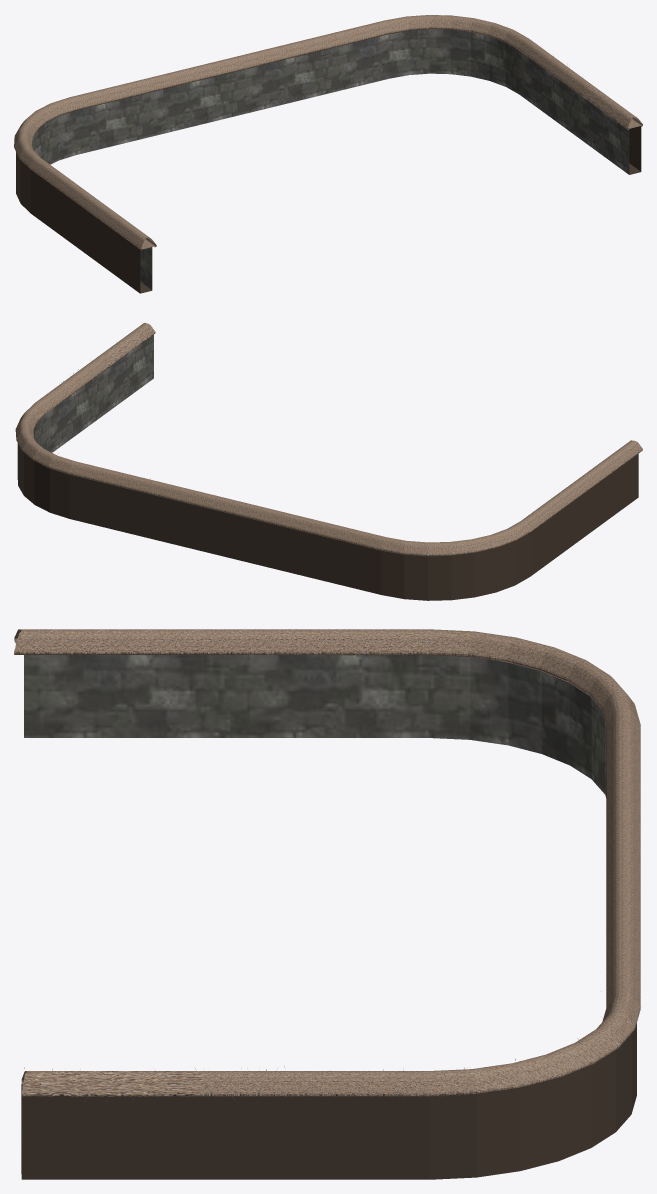
File: yardwall.glb
The picture shows the model from 3 angles, top to bottom: view 1: azimuth 30°, elevation 25°; view 2: azimuth 150°, elevation 25°; view 3: azimuth 270°, elevation 25°; orthographic projection. The views are drawn at different scales.
Parts seen in each view (by area): view 1: prefab; view 2: prefab; view 3: prefab.
Part boxes in pixels (x1,y1,x2,y2): prefab: (14,15,642,293); prefab: (15,323,642,600); prefab: (14,629,640,1179).
Bounding box in the file's own units: 23.59 × 2.57 × 13.7.
2 materials, 2 textured.
